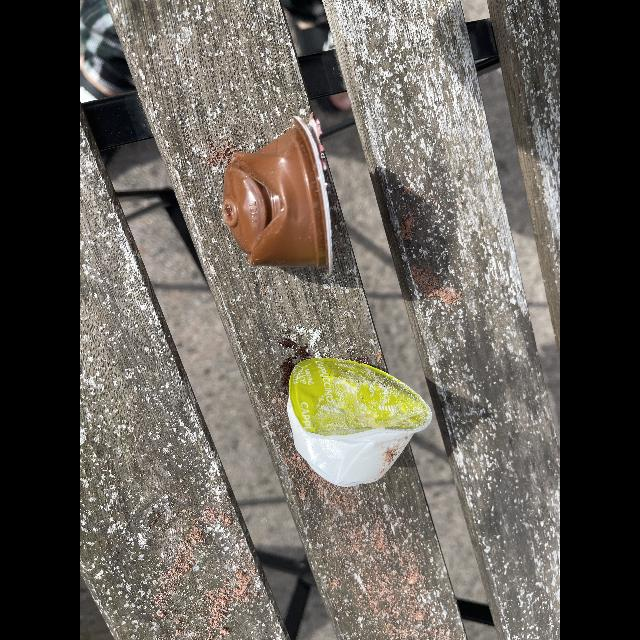damaged_capsule: (206, 106, 356, 290), (276, 346, 442, 506)
